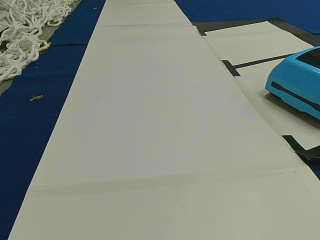car: (265, 45, 318, 119)
